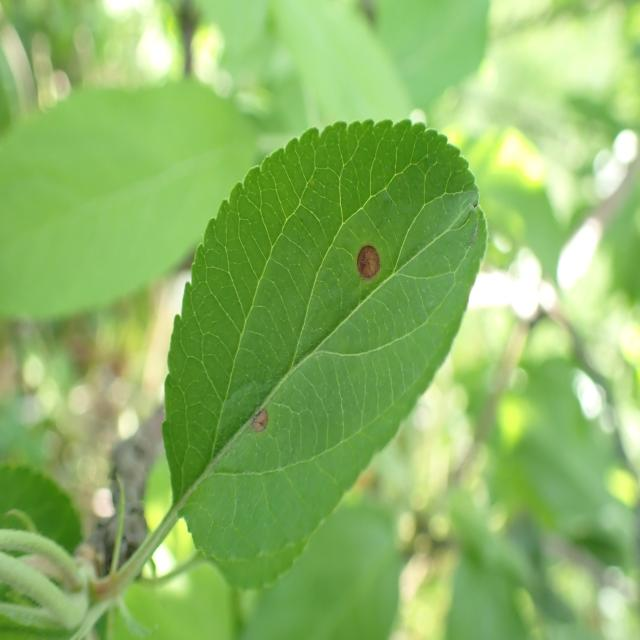Black Rot: (344, 223, 384, 309), (241, 382, 279, 462)
